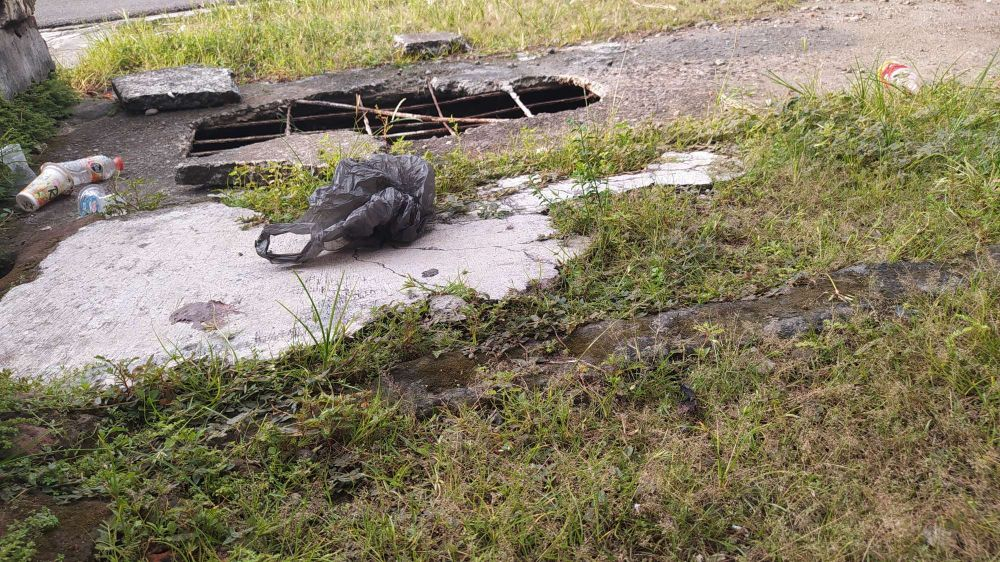botol: (44, 152, 140, 181)
plastik: (252, 161, 460, 269)
